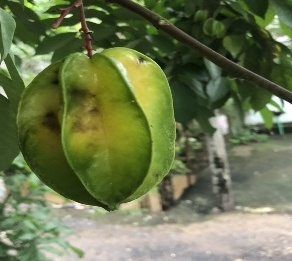Khe: (11, 44, 182, 212)
